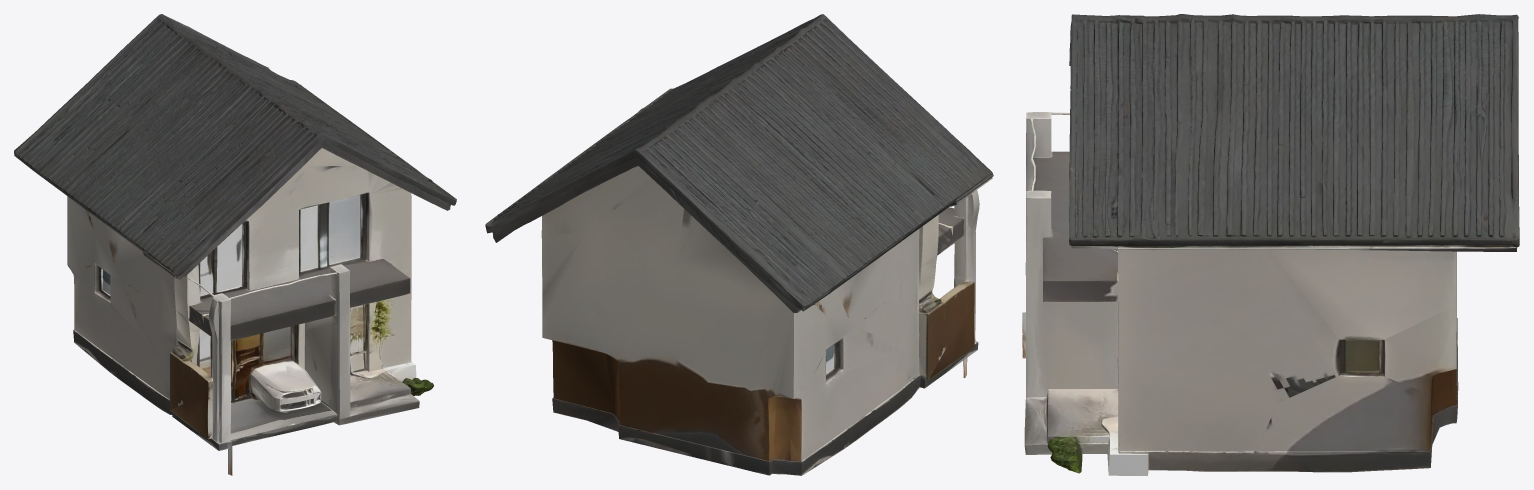
Rendered from house.glb.
The picture shows the model from 3 angles, left to right: view 1: azimuth 30°, elevation 25°; view 2: azimuth 150°, elevation 25°; view 3: azimuth 270°, elevation 25°; orthographic projection. The views are drawn at different scales.
Parts seen in each view (by area): view 1: model; view 2: model; view 3: model.
Part boxes in pixels (x1,y1,x2,y2): model: [14, 14, 456, 475]; model: [485, 14, 993, 475]; model: [1022, 14, 1519, 475].
Bounding box in the file's own units: 1.71 × 1.75 × 1.9.
Materials: 1 (1 with a texture image).
